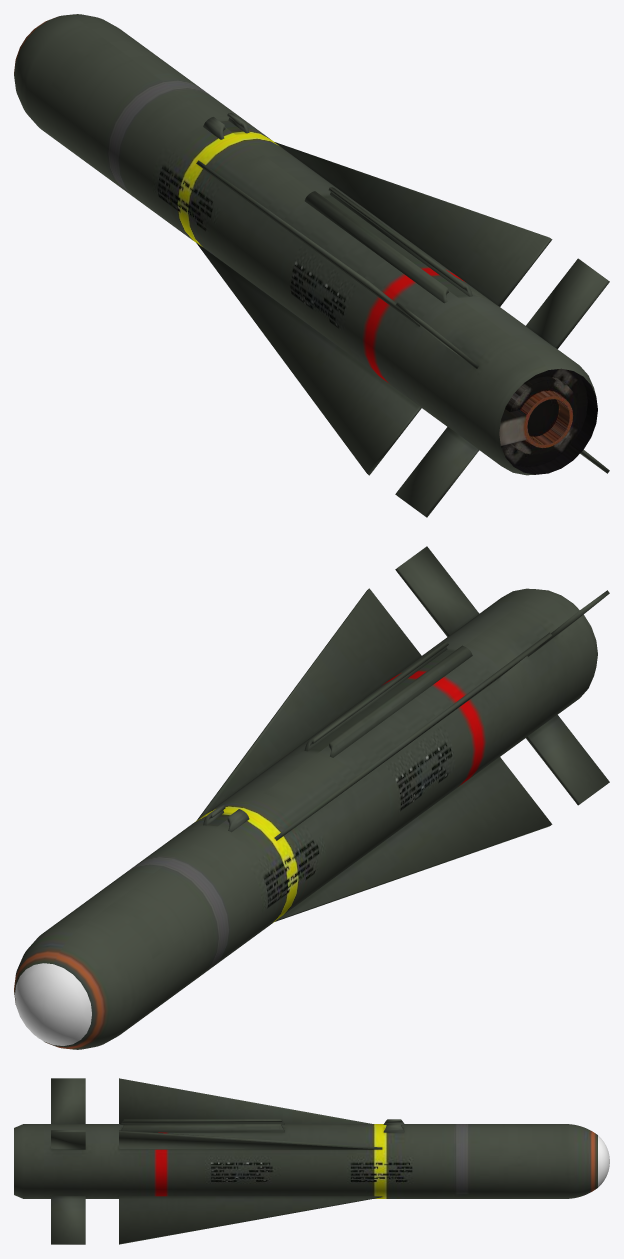
The model's file is agm65.glb.
3 renders of one model, top to bottom at view 1: azimuth 30°, elevation 25°; view 2: azimuth 150°, elevation 25°; view 3: azimuth 270°, elevation 25°, orthographic. The views are drawn at different scales.
Parts seen in each view (by area): view 1: agm65_body; view 2: agm65_body; view 3: agm65_body.
Boxes of the visible parts, x1,y1,x2,y2 form: agm65_body: (14,14,609,517); agm65_body: (14,546,609,1049); agm65_body: (14,1078,609,1244).
Bounding box in the file's own units: 0.5685 × 0.5685 × 2.68.
2 materials, 2 textured.
